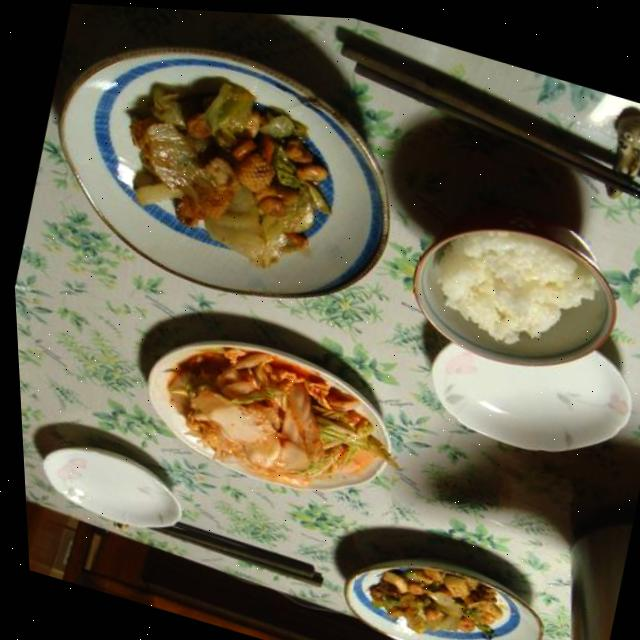蔬菜料理: (144, 307, 392, 513)
